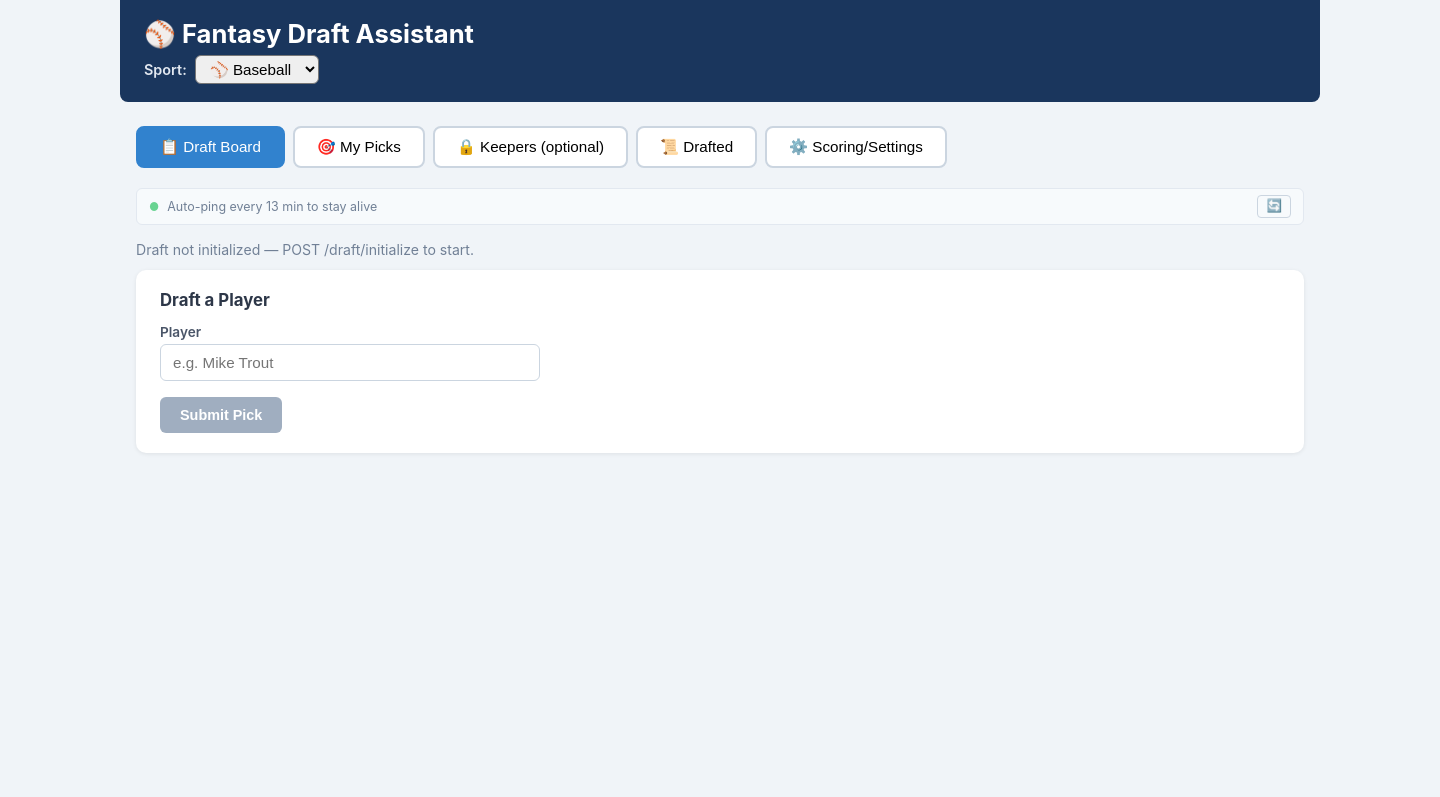
Keeper grid › renders 12 team rows (Team 1–12)
Click the tab "🔒 Keepers (optional)". click: x=530, y=147
box: [433,126,628,168]
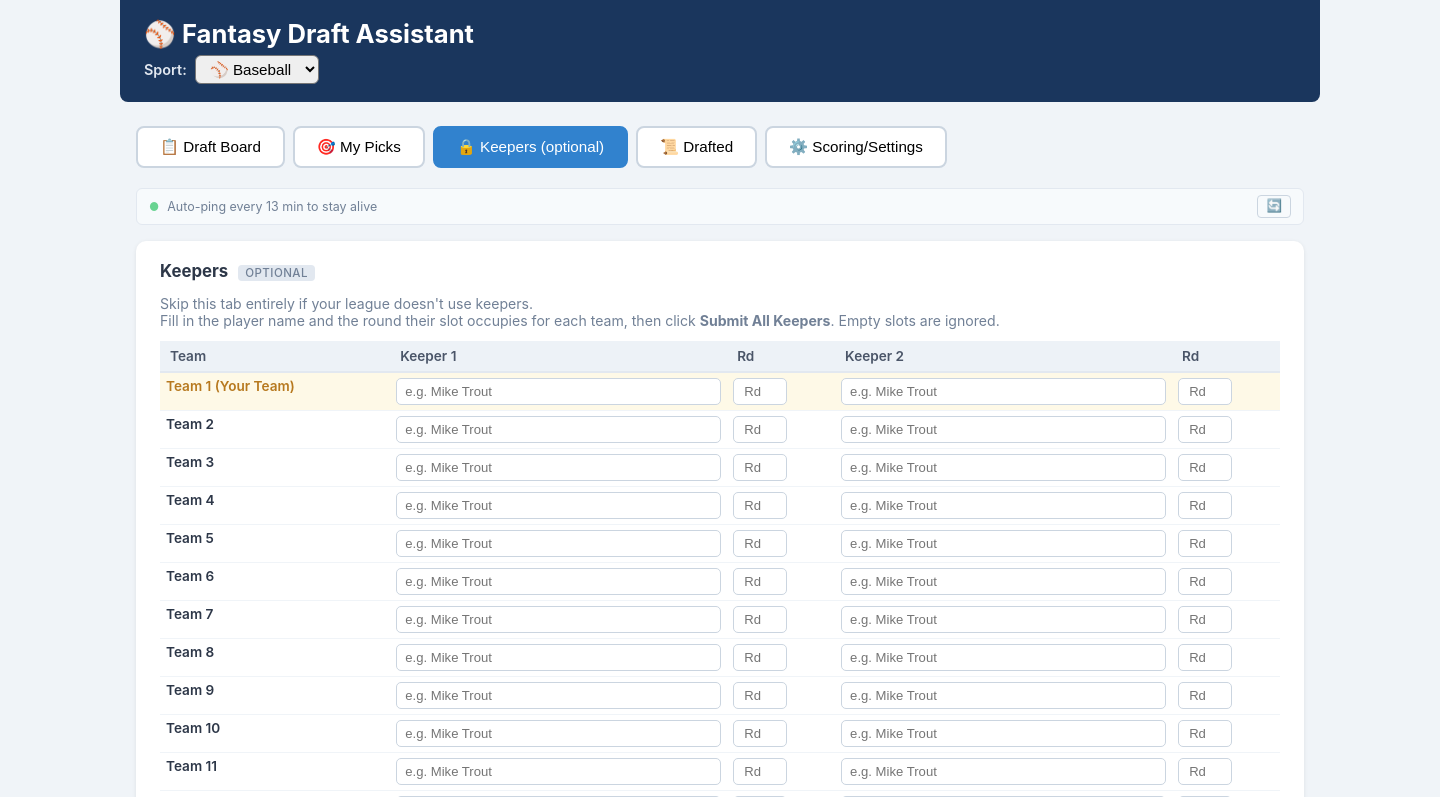
Expected: the text "Team 1 (Your Team)" is shown 12 times
